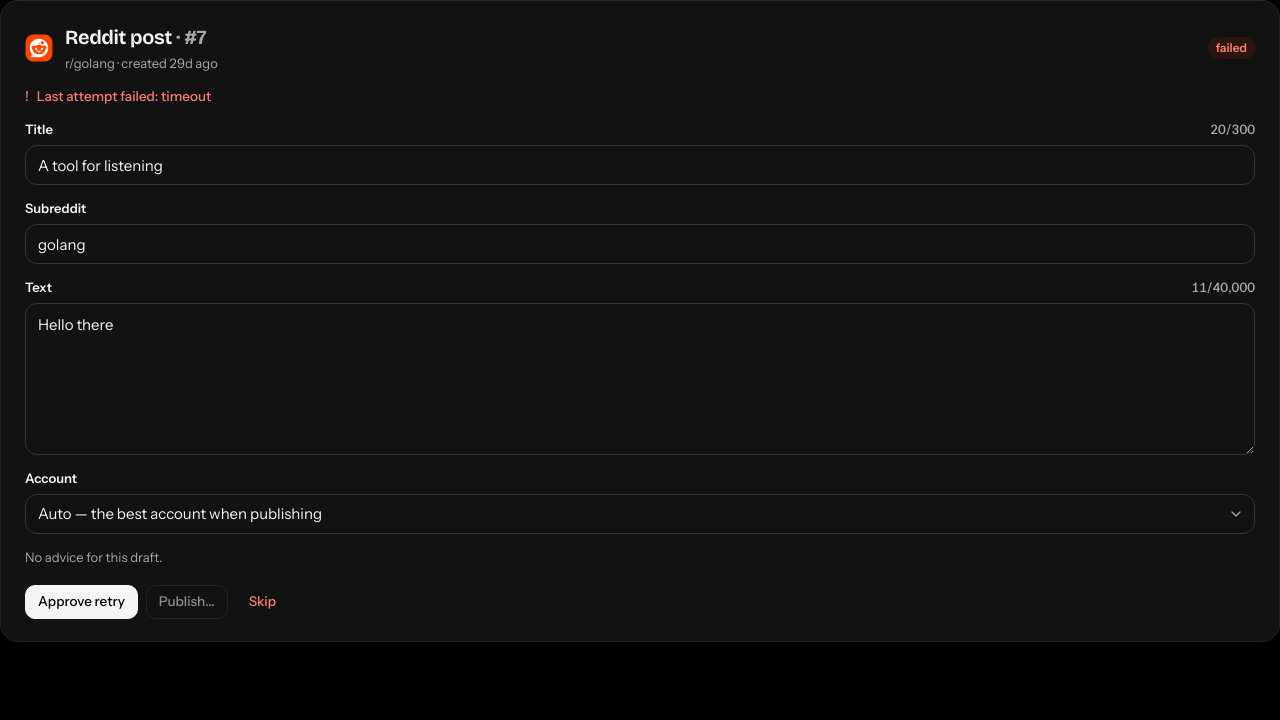
DraftsEditor › retries a failed draft and shows why it was refused
Expected: the text "Last attempt failed: timeout" is shown, [37,88,211,104]
Click the button "Approve retry" at (81, 602), box [25,585,138,619]
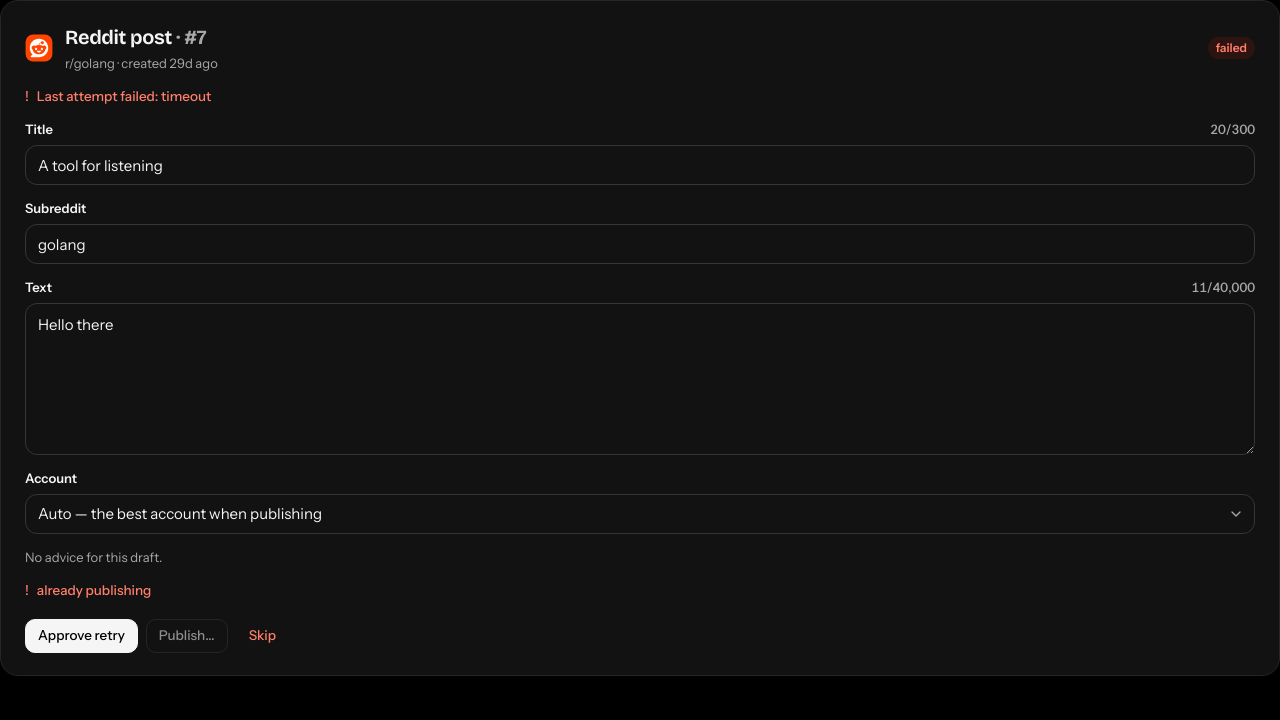
Expected: the text "already publishing" is shown, [37,582,151,598]
